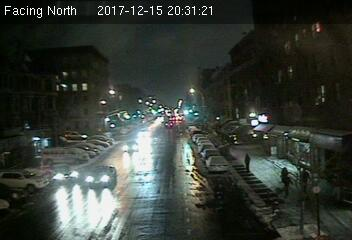car: (85, 164, 116, 187), (53, 165, 87, 182), (204, 155, 230, 173), (164, 122, 172, 128)
pedestrian: (244, 153, 250, 174)
